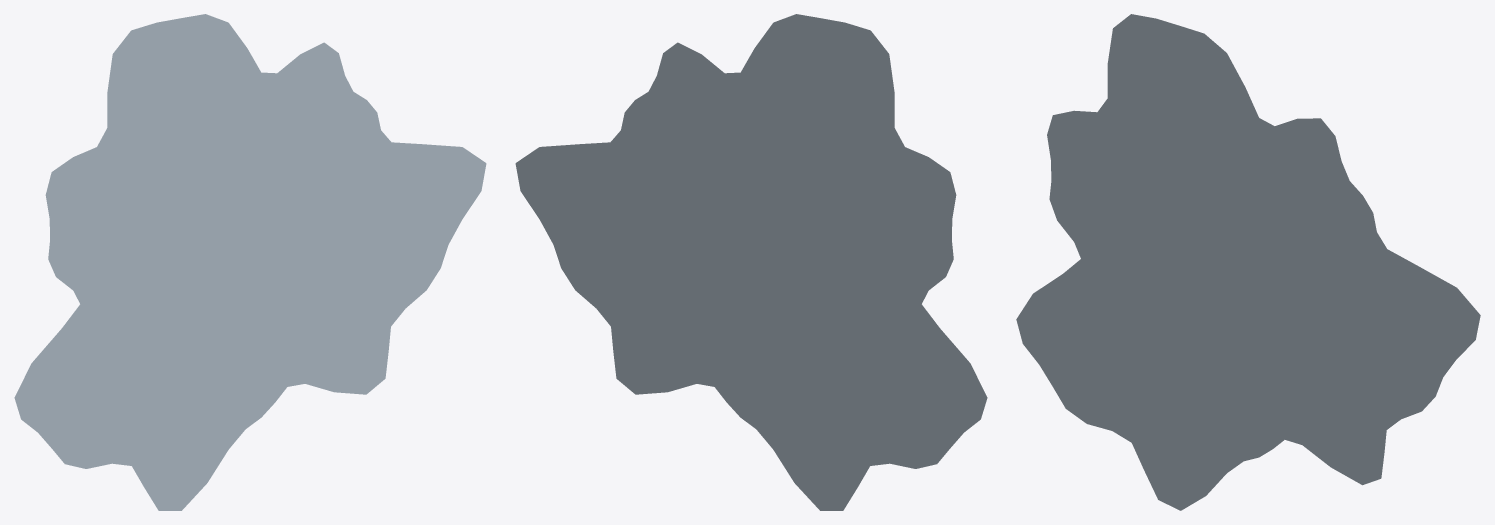
File: 2046_DustSplash_MudBlotch2.fbx
3 views of the same model, side by side, from view 1: azimuth 30°, elevation 25°; view 2: azimuth 150°, elevation 25°; view 3: azimuth 330°, elevation 25° (orthographic).
Visible parts, largest first — view 1: PART_IrregularMudBlotch2; view 2: PART_IrregularMudBlotch2; view 3: PART_IrregularMudBlotch2.
Part boxes in pixels (<box>): PART_IrregularMudBlotch2: <box>14,14,486,510</box>; PART_IrregularMudBlotch2: <box>515,14,987,510</box>; PART_IrregularMudBlotch2: <box>1016,14,1480,510</box>.
Size of the model in its own units: 231 by 231 by 3.77e-05.
